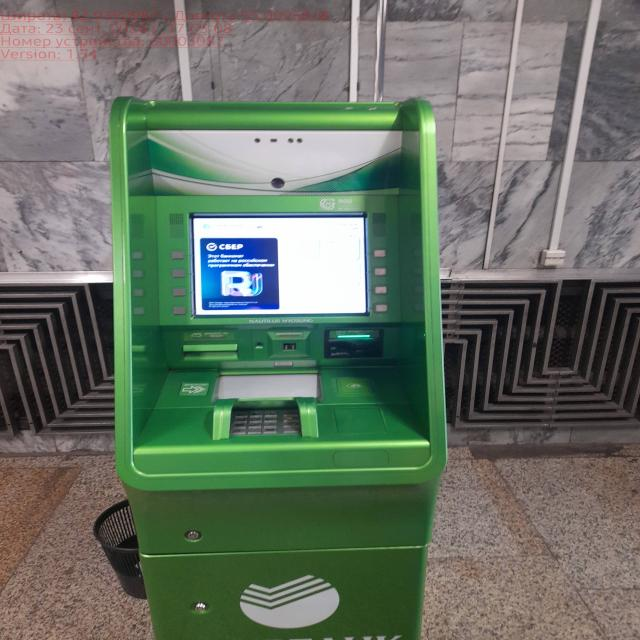bank: (109, 92, 442, 640)
